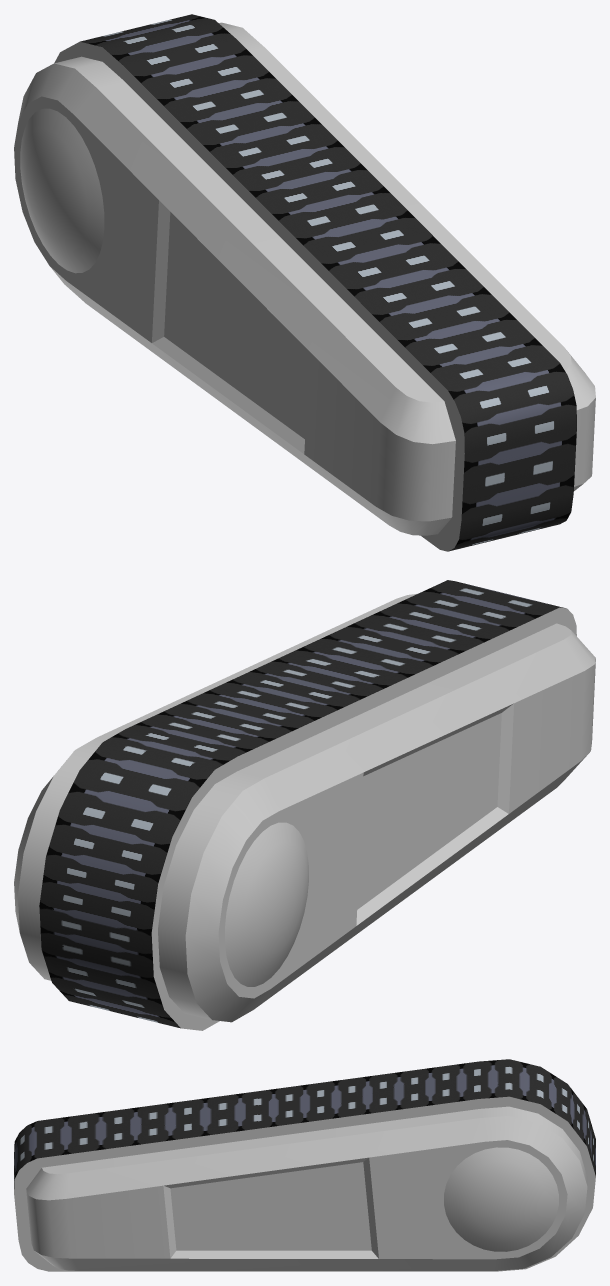
The model's file is Tank_Wheel_Dark_LB.FBX.
3 views of the same model, one above another, from view 1: azimuth 30°, elevation 25°; view 2: azimuth 150°, elevation 25°; view 3: azimuth 270°, elevation 25° (orthographic). The views are drawn at different scales.
Parts seen in each view (by area): view 1: Tank_Wheel_Dark_LB, Wheel_LB; view 2: Tank_Wheel_Dark_LB, Wheel_LB; view 3: Tank_Wheel_Dark_LB, Wheel_LB.
Part boxes in pixels (<box>): Tank_Wheel_Dark_LB: <box>14,22,595,551</box>; Wheel_LB: <box>80,14,576,551</box>; Tank_Wheel_Dark_LB: <box>14,593,595,1030</box>; Wheel_LB: <box>39,580,565,1028</box>; Tank_Wheel_Dark_LB: <box>14,1096,595,1271</box>; Wheel_LB: <box>14,1059,595,1188</box>.
Bounding box in the file's own units: 2.05 × 2.09 × 6.3.
